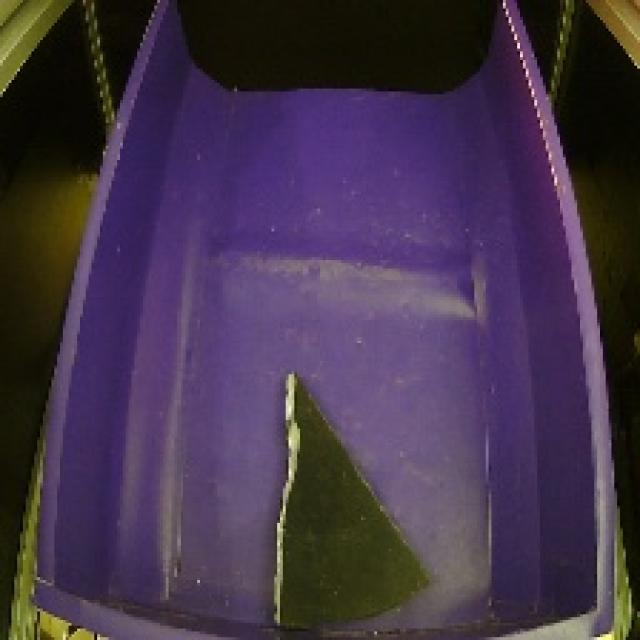china: (260, 361, 441, 638)
